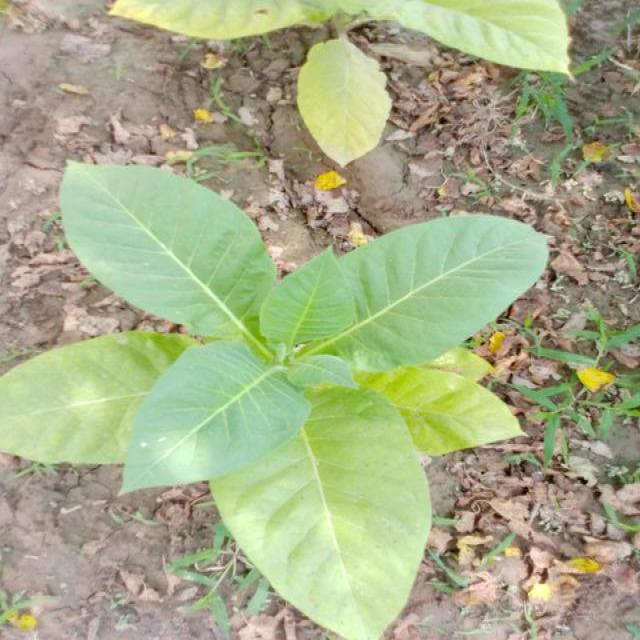crop: (17, 153, 544, 640), (120, 0, 574, 145)
